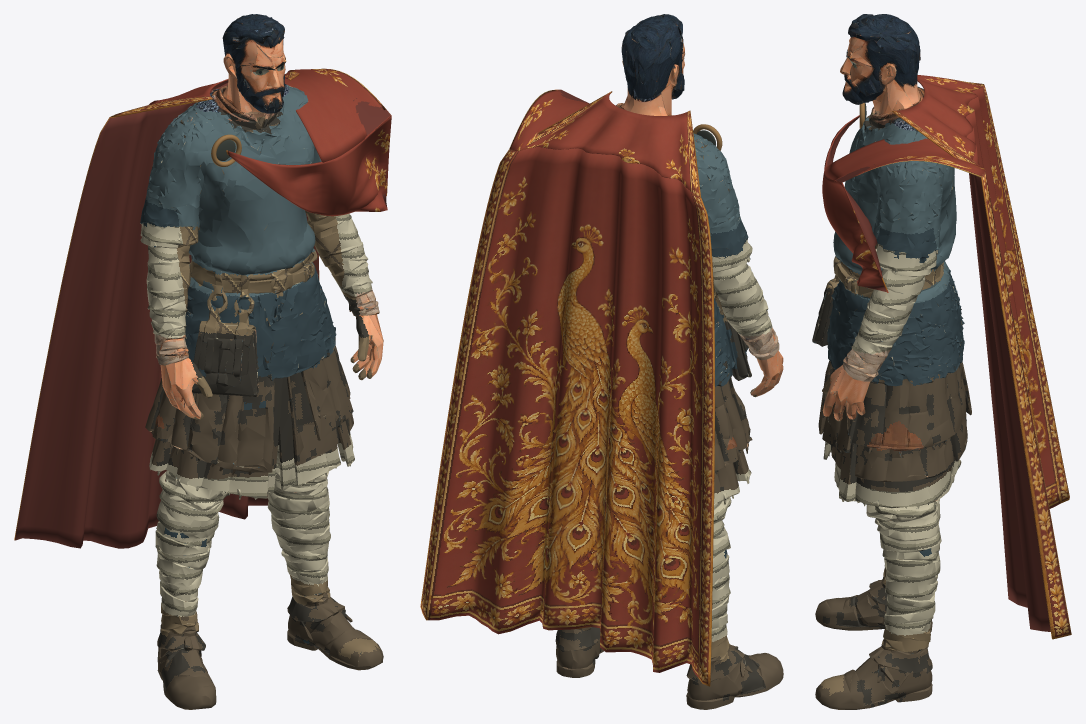
The model's file is mercenary-tailored.glb.
3 views of the same model, side by side, from view 1: azimuth 30°, elevation 25°; view 2: azimuth 150°, elevation 25°; view 3: azimuth 270°, elevation 25° (orthographic).
Visible parts, largest first — view 1: mercenary-tailored runtime mesh; view 2: mercenary-tailored runtime mesh; view 3: mercenary-tailored runtime mesh.
Part boxes in pixels (left/top/right/bottom): mercenary-tailored runtime mesh: left=14, top=14, right=391, bottom=709; mercenary-tailored runtime mesh: left=420, top=14, right=783, bottom=709; mercenary-tailored runtime mesh: left=812, top=14, right=1071, bottom=709.
Size of the model in its own units: 0.9693 by 2.03 by 0.7416.
8 materials, 2 textured.
